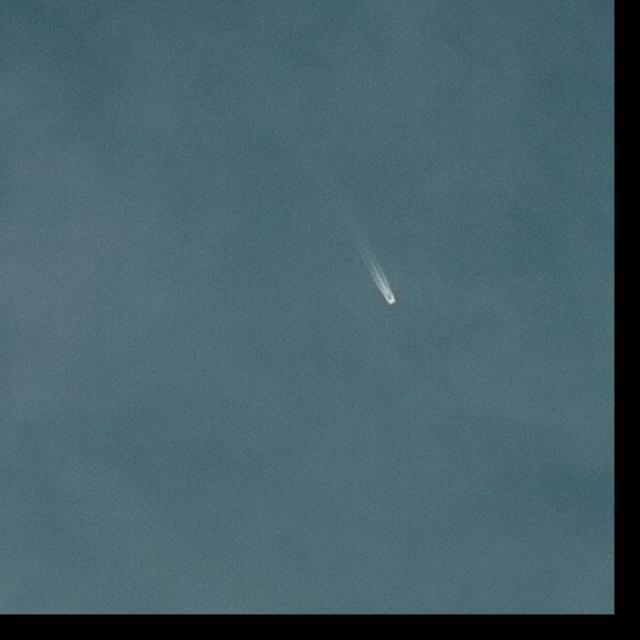ship: (387, 298, 395, 306)
